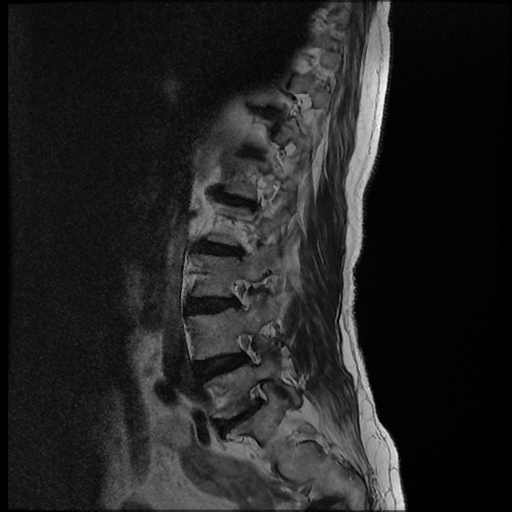RFS0: (227, 319, 268, 373), (222, 265, 260, 319)
RFS1: (241, 372, 280, 415)
